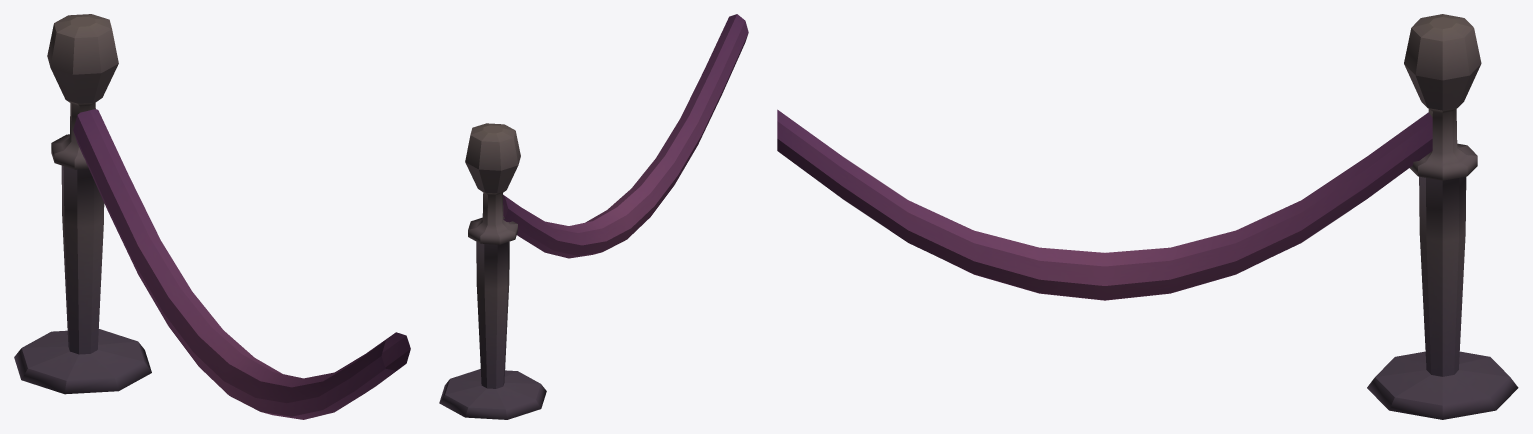
Rendered from SM_RailingRedCarpet.fbx.
3 renders of one model, left to right at view 1: azimuth 30°, elevation 25°; view 2: azimuth 150°, elevation 25°; view 3: azimuth 270°, elevation 25°, orthographic. The views are drawn at different scales.
Visible parts, largest first — view 1: SM_ArtroomB.008; view 2: SM_ArtroomB.008; view 3: SM_ArtroomB.008.
Part boxes in pixels (x1,y1,x2,y2): SM_ArtroomB.008: (14, 14, 410, 419); SM_ArtroomB.008: (439, 14, 748, 419); SM_ArtroomB.008: (777, 14, 1518, 419).
Size of the model in its own units: 44.95 by 219 by 119.
